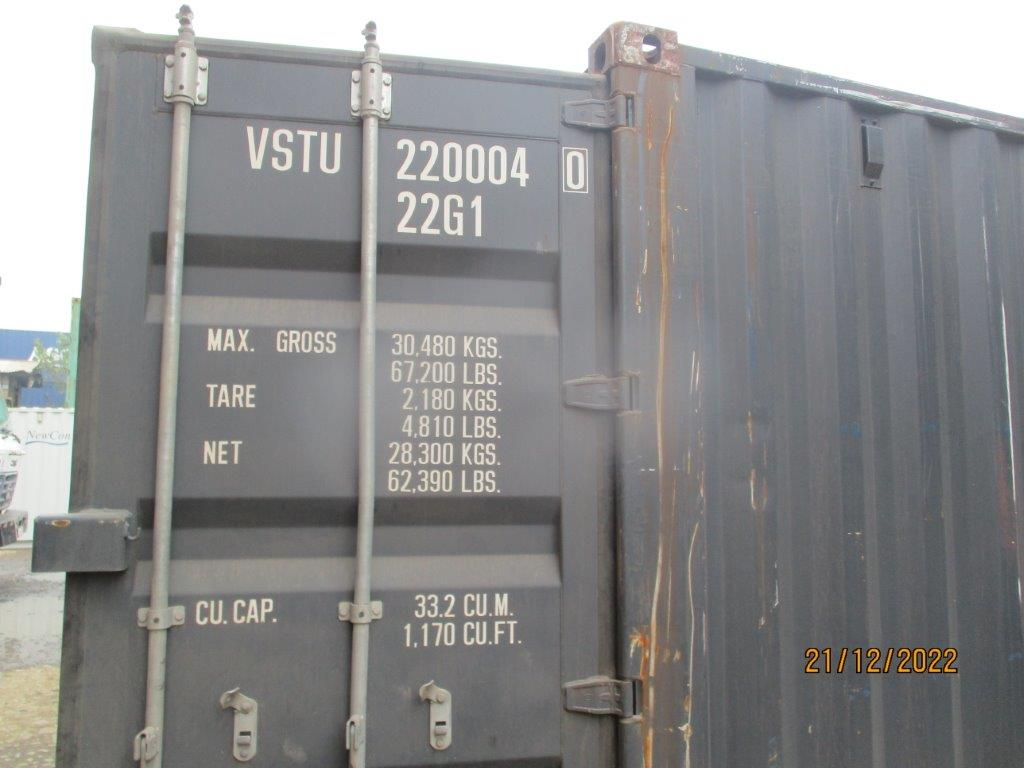rear_side: (75, 85, 615, 768)
right_side: (612, 30, 1024, 768)
